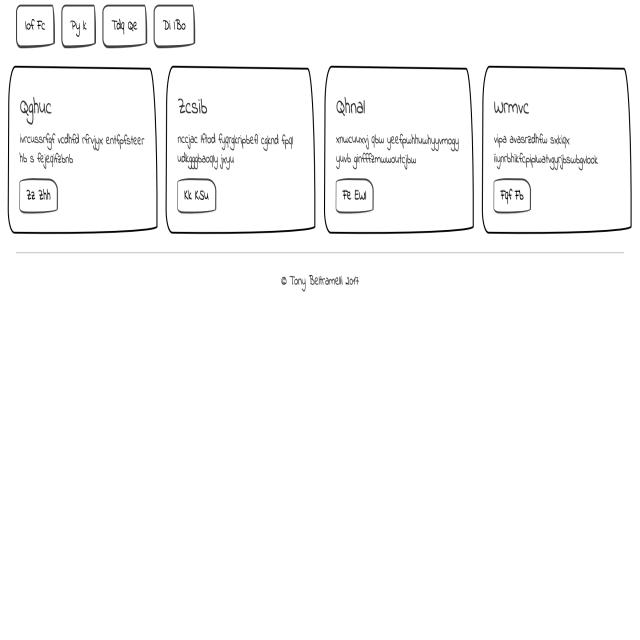Button: (330, 175, 387, 222), (15, 174, 70, 213), (174, 174, 224, 216), (491, 178, 538, 215)
Card: (318, 59, 477, 249), (479, 57, 635, 241), (162, 62, 316, 244), (6, 64, 161, 239)
Footer: (4, 258, 640, 640)
Heading 6: (490, 93, 539, 119), (16, 94, 57, 124), (330, 92, 373, 117), (175, 96, 213, 122)
Navigation Bar: (12, 2, 207, 57)
Paragraph: (333, 126, 465, 173), (172, 126, 299, 172), (490, 129, 605, 174), (15, 129, 145, 167)
